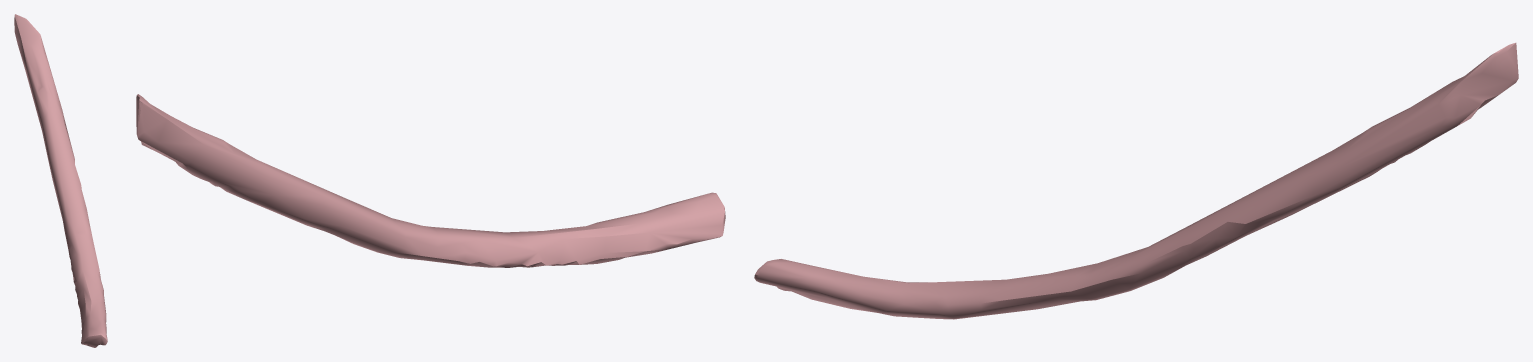
File: fma46442_fj1465m.glb
3 renders of one model, left to right at view 1: azimuth 30°, elevation 25°; view 2: azimuth 150°, elevation 25°; view 3: azimuth 270°, elevation 25°, orthographic. The views are drawn at different scales.
Visible parts, largest first — view 1: FMA46442_FJ1465M; view 2: FMA46442_FJ1465M; view 3: FMA46442_FJ1465M.
Boxes of the visible parts, bbox=[...] form: FMA46442_FJ1465M: bbox=[14, 14, 107, 347]; FMA46442_FJ1465M: bbox=[136, 94, 725, 267]; FMA46442_FJ1465M: bbox=[754, 42, 1518, 319].
Size of the model in its own units: 0.0253 by 0.0337 by 0.0662.
